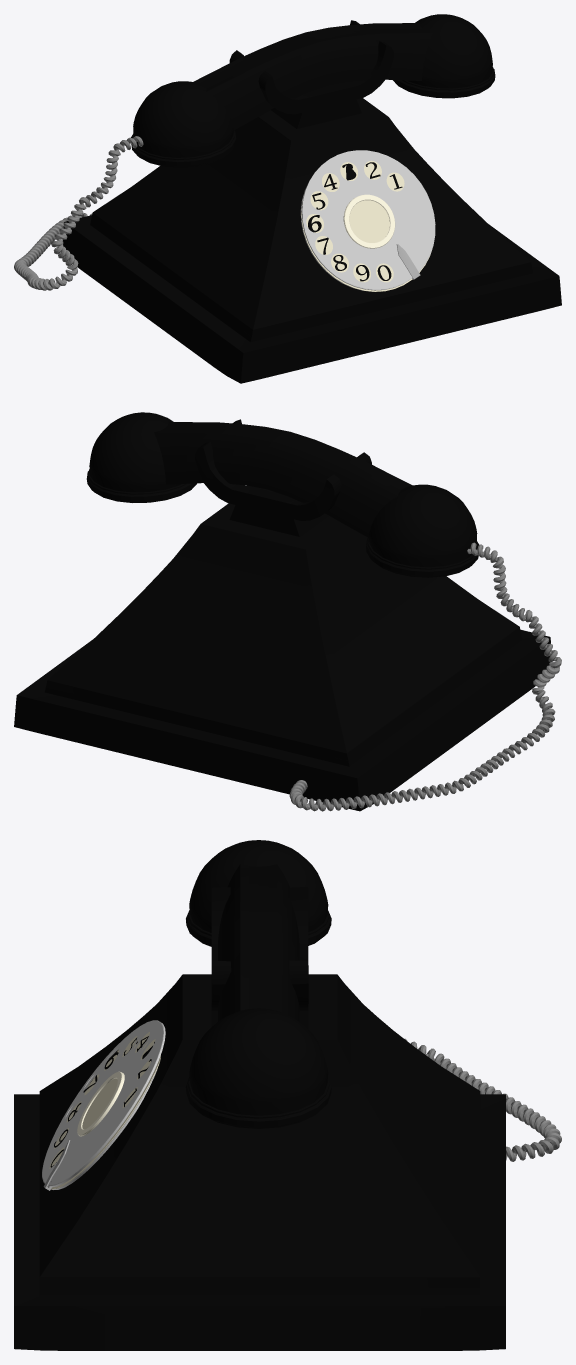
The model's file is PD_Telephone01_DF.fbx.
The picture shows the model from 3 angles, top to bottom: view 1: azimuth 30°, elevation 25°; view 2: azimuth 150°, elevation 25°; view 3: azimuth 270°, elevation 25°; orthographic projection. The views are drawn at different scales.
Visible parts, largest first — view 1: Telephone; view 2: Telephone; view 3: Telephone.
Part boxes in pixels (x1,y1,x2,y2): Telephone: (14, 14, 561, 383); Telephone: (14, 412, 561, 811); Telephone: (14, 840, 561, 1350).
Size of the model in its own units: 0.4676 by 0.2471 by 0.369.
